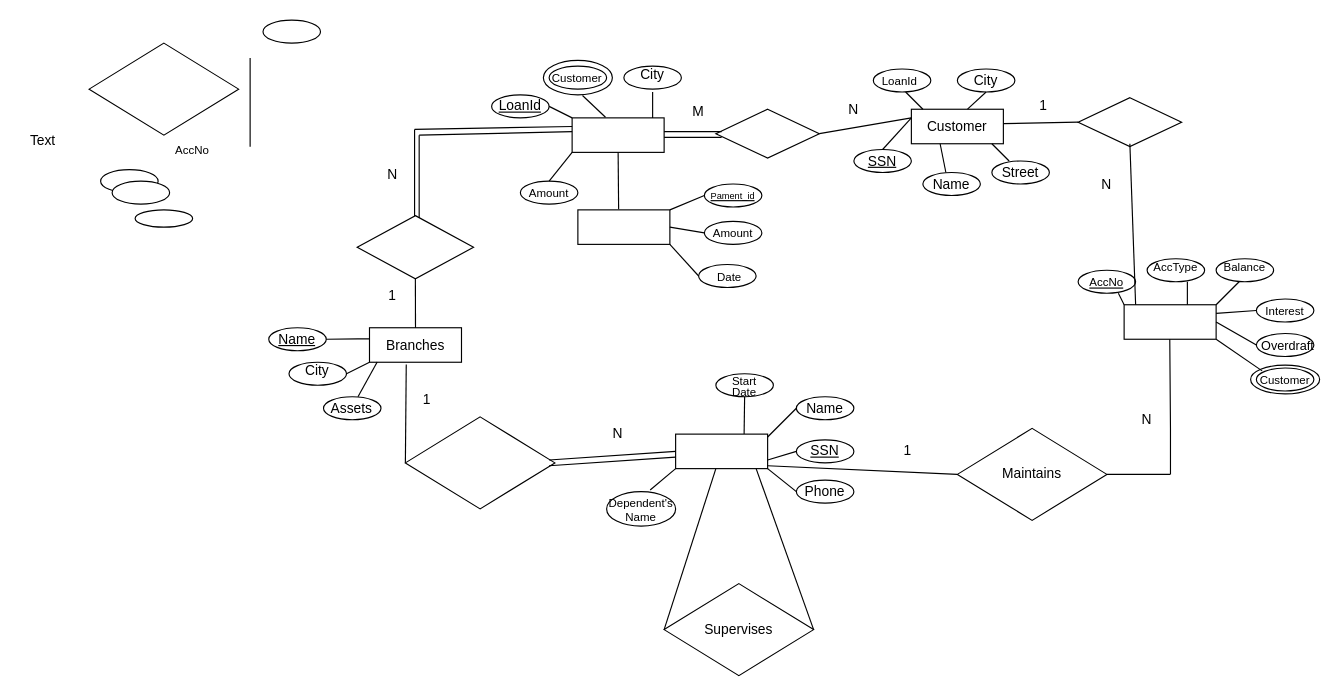
Some shapes in this 1340 by 696 pixel diagram are drawn without their labels. The box of each missing label's shape, as (x1, y1, x2, y2) in pixels:
Account: (1123, 304, 1216, 339)
Bankers: (674, 433, 768, 469)
Gives: (356, 214, 474, 279)
Has: (404, 416, 555, 509)
Have: (1077, 97, 1182, 147)
Loan: (571, 117, 664, 152)
Payment: (577, 209, 670, 244)
Takes: (715, 108, 819, 158)
